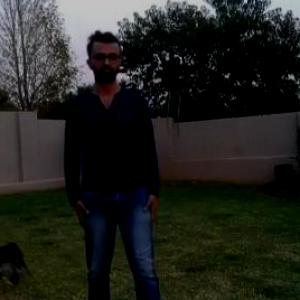follow: (62, 29, 161, 299)
